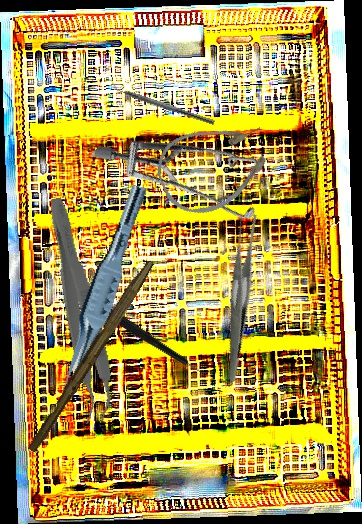Cannula: (147, 107, 283, 226)
Chopper: (64, 243, 217, 415), (106, 78, 218, 126)
Dressing Forceps: (176, 208, 300, 383)
Scalpel Handle: (26, 256, 155, 456)
Speculum: (90, 68, 289, 268)
Tissue Forceps: (32, 194, 123, 426), (55, 180, 149, 398)
